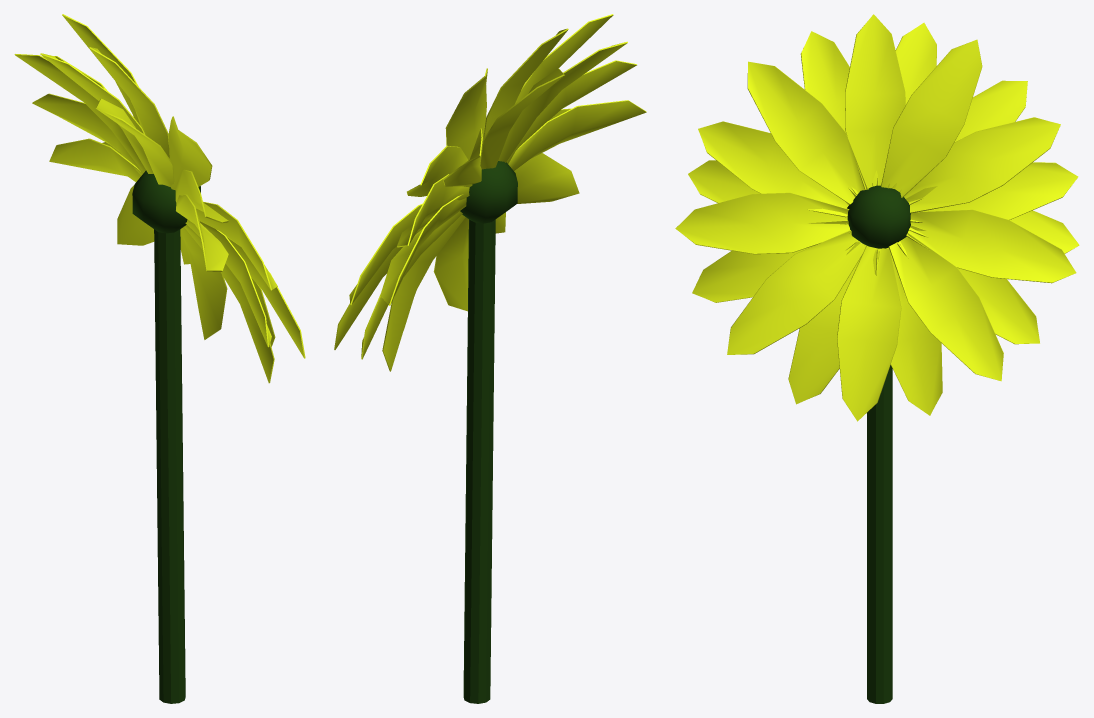
File: Flower_Yellow.FBX
3 renders of one model, left to right at view 1: azimuth 30°, elevation 25°; view 2: azimuth 150°, elevation 25°; view 3: azimuth 270°, elevation 25°, orthographic. The views are drawn at different scales.
Parts seen in each view (by area): view 1: Sphere001, Plane006, Plane001, Plane016, Plane021, Plane019, Plane013, Plane014, Plane010, Plane017, Plane008, Plane011 (+5 smaller); view 2: Sphere001, Plane015, Plane006, Plane010, Plane008, Plane014, Plane018, Plane012, Plane017, Plane001, Plane016, Plane013 (+6 smaller); view 3: Sphere001, Plane018, Plane007, Plane009, Plane013, Plane003, Plane005, Plane011, Plane020, Plane016, Plane012, Plane006 (+9 smaller).
Part boxes in pixels (x1,y1,x2,y2): Sphere001: [132, 170, 200, 703]; Plane006: [180, 227, 227, 339]; Plane001: [49, 138, 140, 181]; Plane016: [89, 47, 169, 158]; Plane021: [32, 93, 143, 175]; Plane019: [14, 54, 145, 172]; Plane013: [168, 116, 212, 190]; Plane014: [96, 98, 174, 187]; Plane010: [185, 219, 271, 347]; Plane017: [40, 53, 153, 173]; Plane008: [184, 225, 274, 383]; Plane011: [196, 201, 277, 290]; Sphere001: [460, 161, 517, 703]; Plane015: [508, 100, 646, 170]; Plane006: [382, 214, 465, 371]; Plane010: [514, 153, 579, 203]; Plane008: [433, 217, 468, 311]; Plane014: [498, 41, 627, 162]; Plane018: [445, 68, 487, 160]; Plane012: [506, 60, 636, 163]; Plane017: [480, 68, 564, 169]; Plane001: [380, 194, 466, 305]; Plane016: [483, 28, 568, 138]; Plane013: [515, 14, 613, 103]; Sphere001: [847, 185, 910, 703]; Plane018: [881, 39, 982, 197]; Plane007: [837, 246, 901, 421]; Plane009: [727, 230, 865, 354]; Plane013: [747, 61, 868, 204]; Plane003: [888, 233, 1003, 381]; Plane005: [906, 209, 1076, 283]; Plane011: [675, 192, 849, 254]; Plane020: [899, 117, 1060, 213]; Plane016: [845, 14, 905, 189]; Plane012: [698, 121, 856, 217]; Plane006: [875, 244, 942, 415].
Bounding box in the file's own units: 74.1 × 243 × 138.
